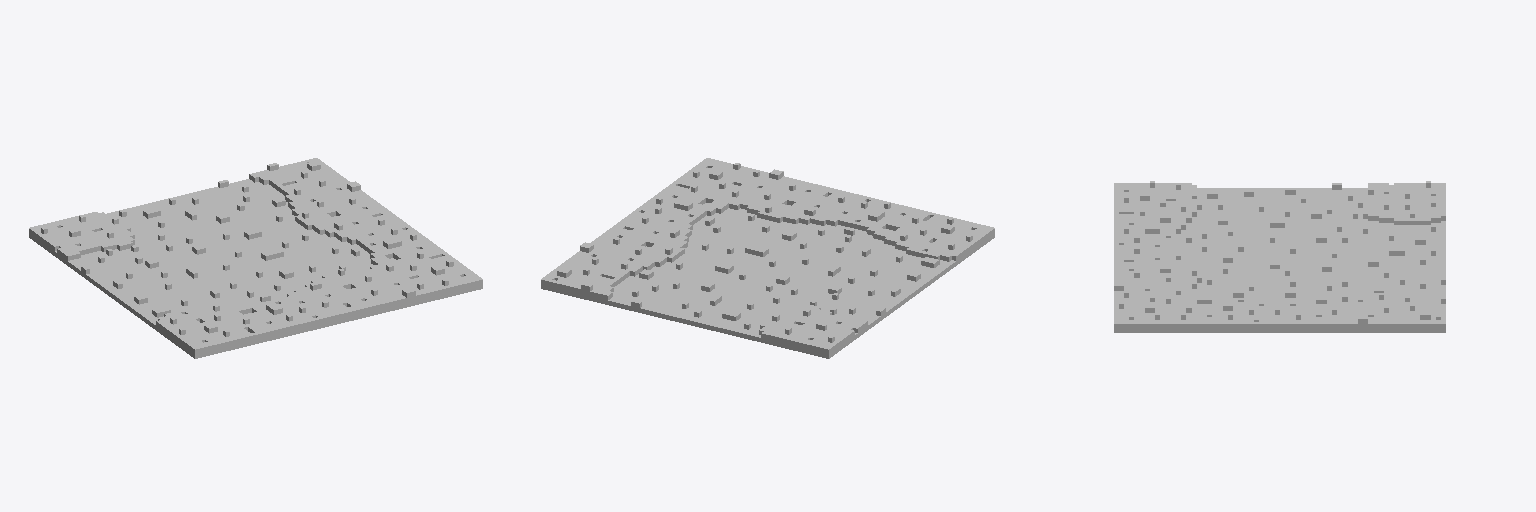
Rendered from EarthPathTurn_1.obj.
3 views of the same model, side by side, from view 1: azimuth 30°, elevation 25°; view 2: azimuth 150°, elevation 25°; view 3: azimuth 270°, elevation 25° (orthographic).
Visible parts, largest first — view 1: EarthPathTurn_1.001; view 2: EarthPathTurn_1.001; view 3: EarthPathTurn_1.001.
Part boxes in pixels (bbox=[...]): EarthPathTurn_1.001: bbox=[29, 158, 482, 358]; EarthPathTurn_1.001: bbox=[541, 158, 994, 358]; EarthPathTurn_1.001: bbox=[1114, 181, 1445, 332].
Size of the model in its own units: 1 by 0.0469 by 1.